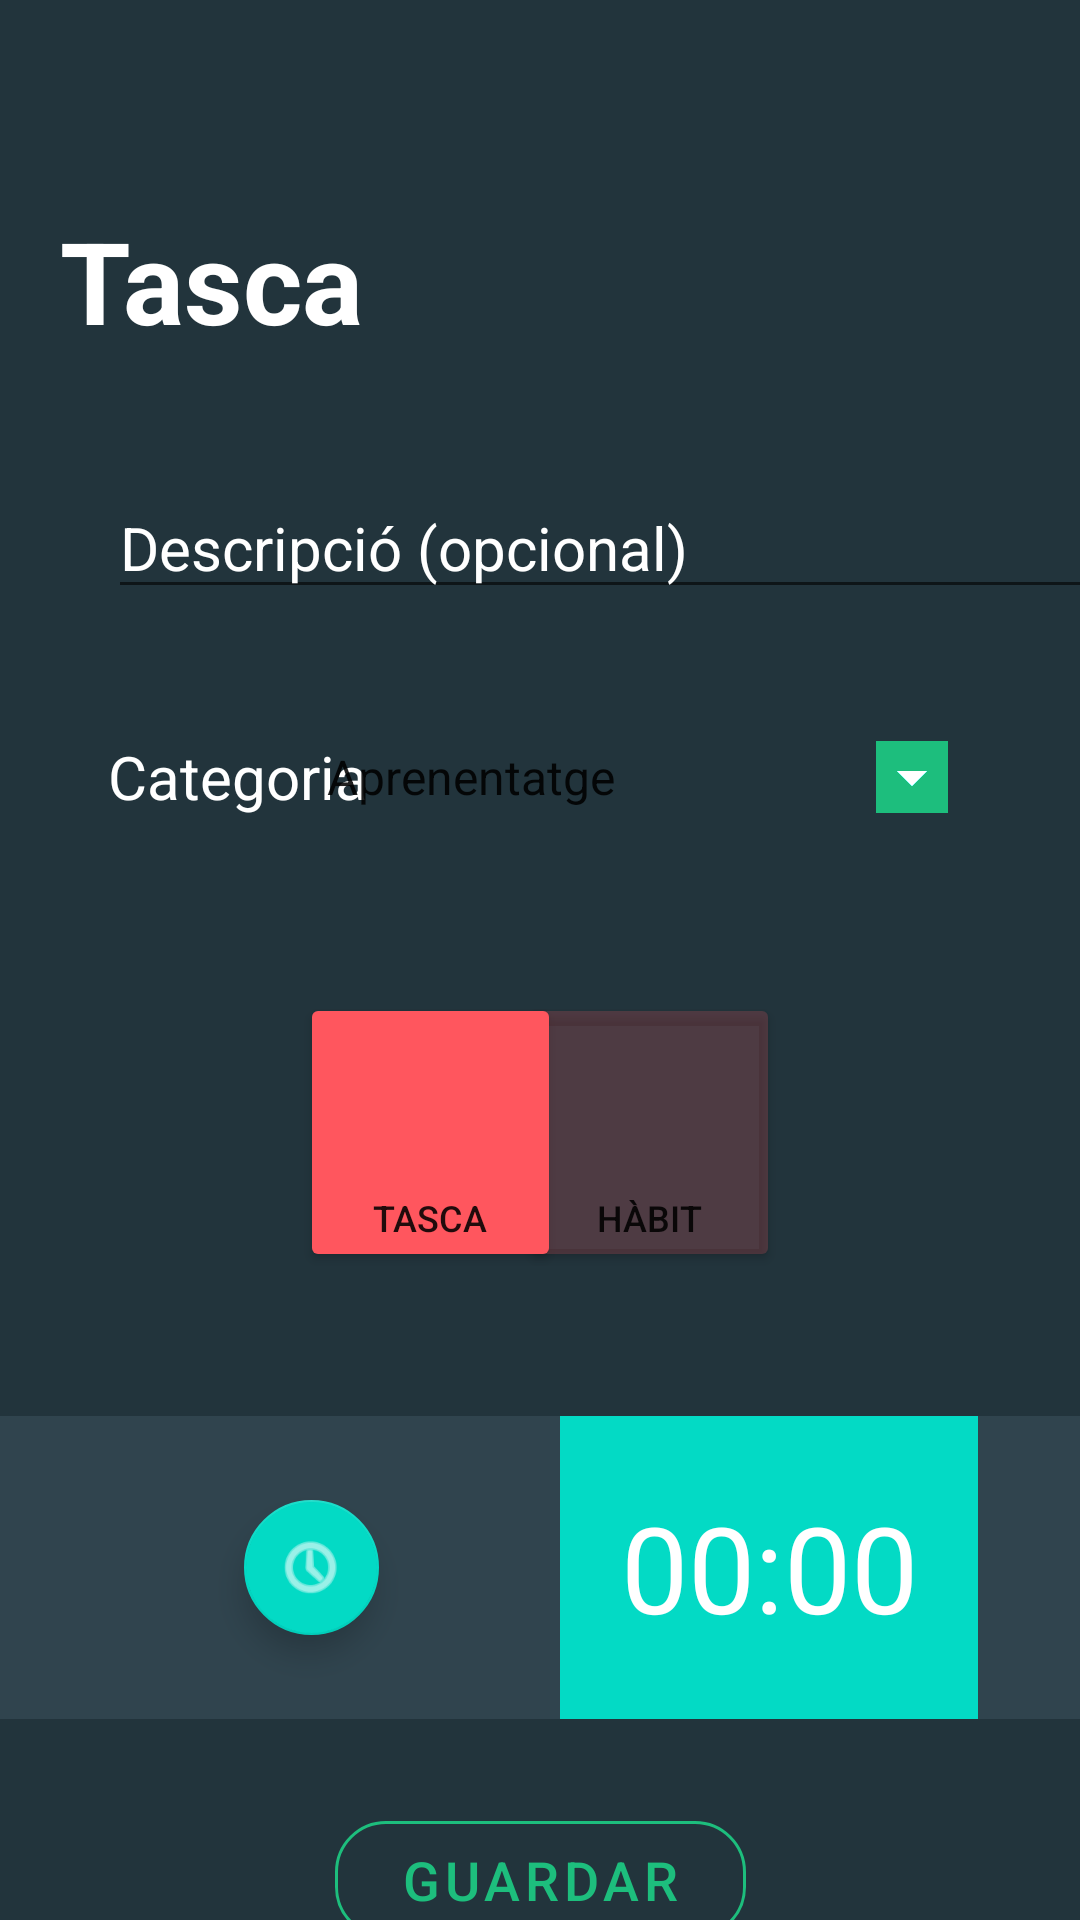

Point at icon controls on the screen. Image size 1080px x 1920px, points as [x,y].
recent history: [311,1567]
